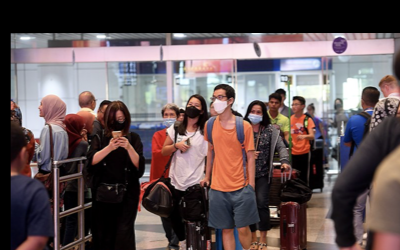with_mask: (210, 93, 228, 115), (185, 101, 201, 120), (108, 115, 125, 132), (246, 108, 262, 125), (161, 112, 176, 128), (334, 100, 342, 110)
without_mask: (267, 99, 279, 112), (291, 101, 301, 114), (37, 99, 43, 118), (210, 103, 217, 116), (176, 113, 184, 124)
